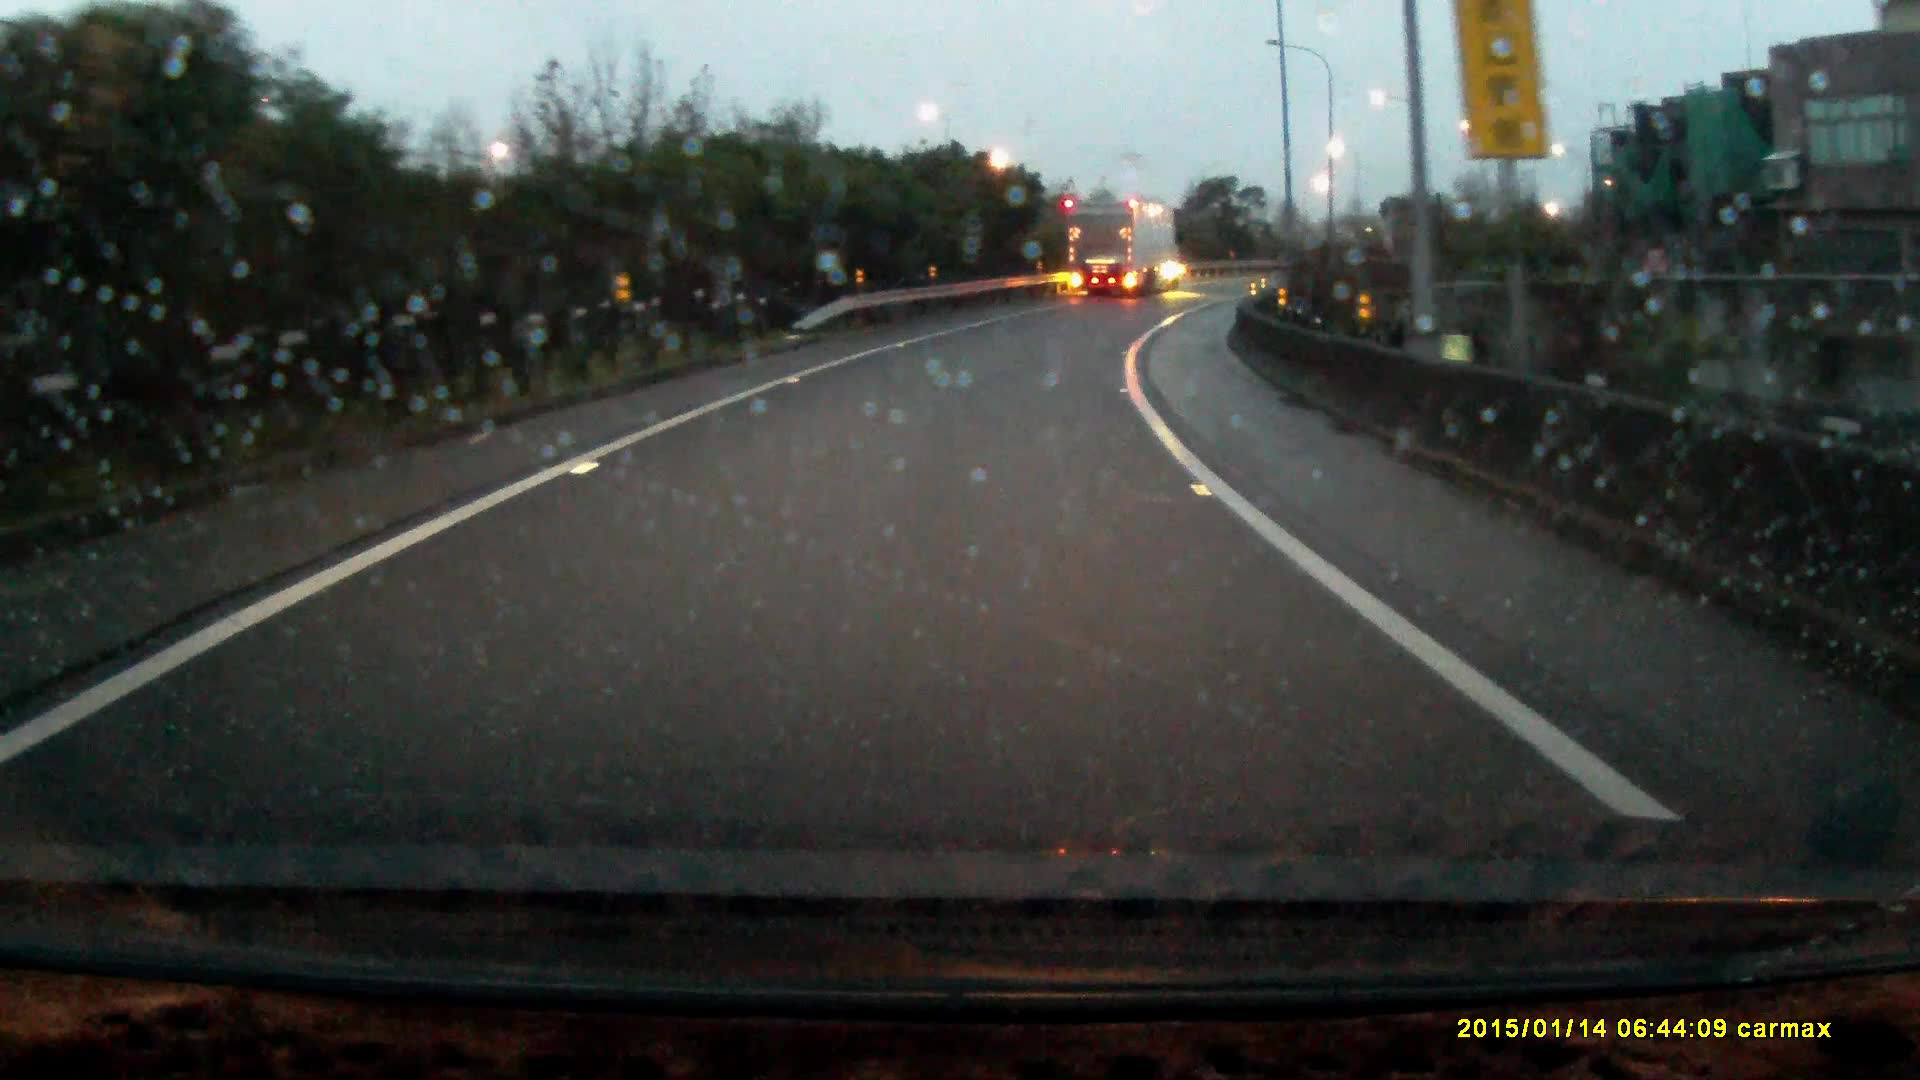vehicle: (1068, 198, 1188, 298)
